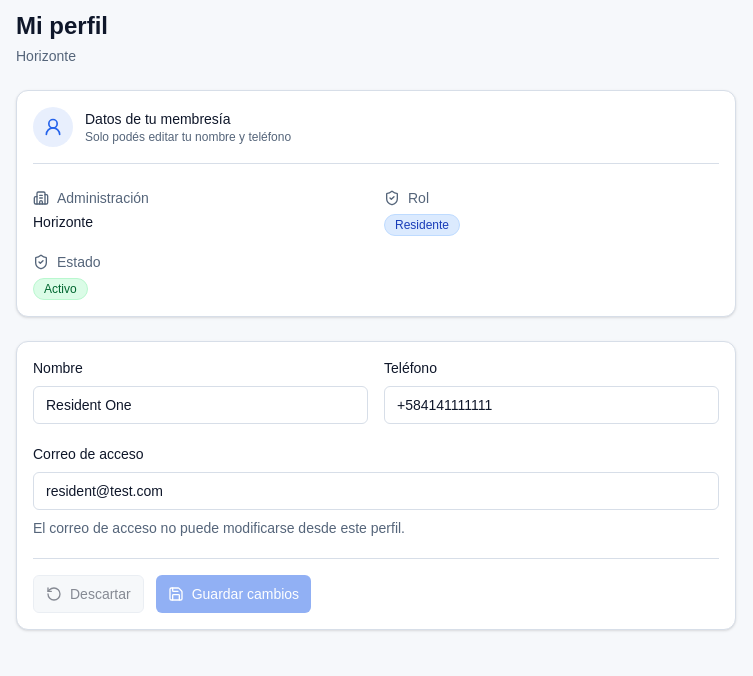
Test: ResidentProfilePage › marks empty name as invalid and disables save
This screenshot has width=753, height=676.
Clear the field labelled "Nombre": (200, 405) [33,386,368,424]
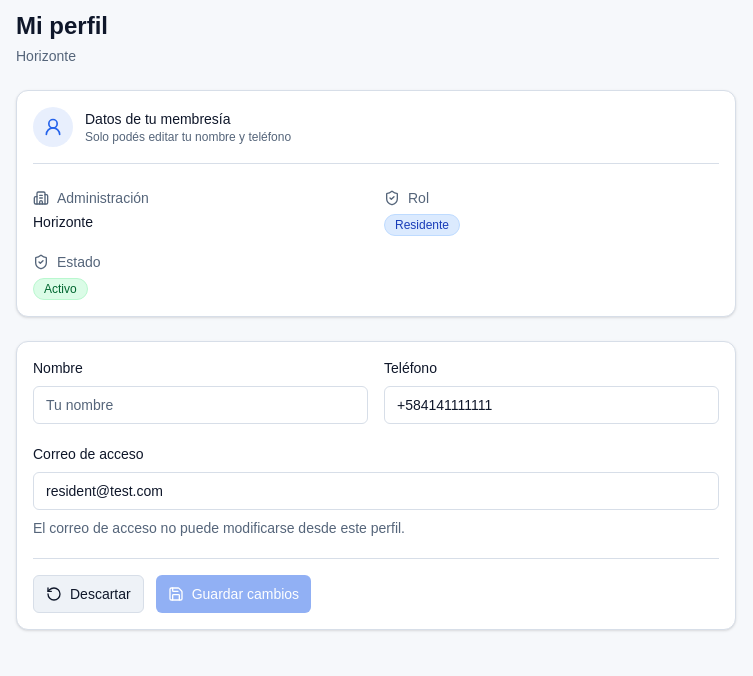
Leave the field labelled "Nombre", box [33,386,368,424]
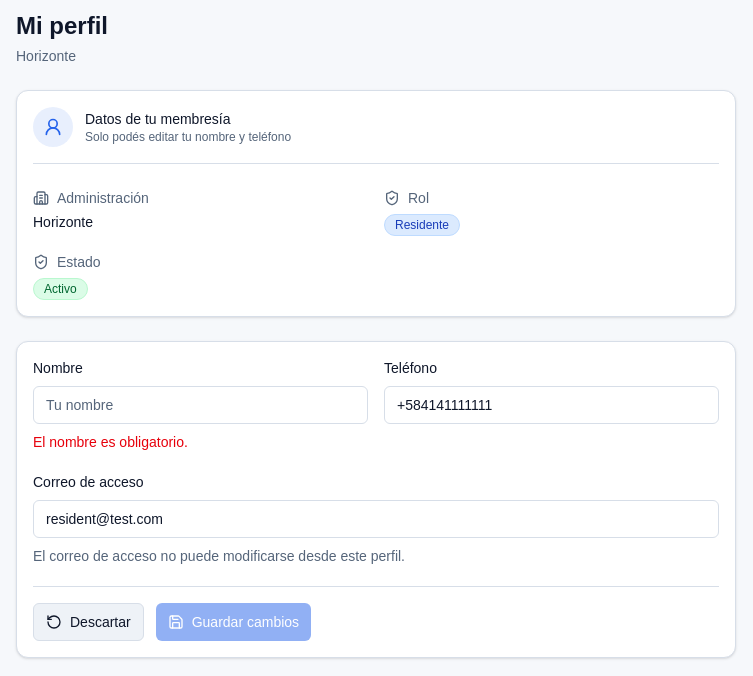
Expected: the button "Guardar cambios" is disabled, [156,603,311,641]
Now the text "El nombre es obligatorio." is shown, box [33,434,188,450]
